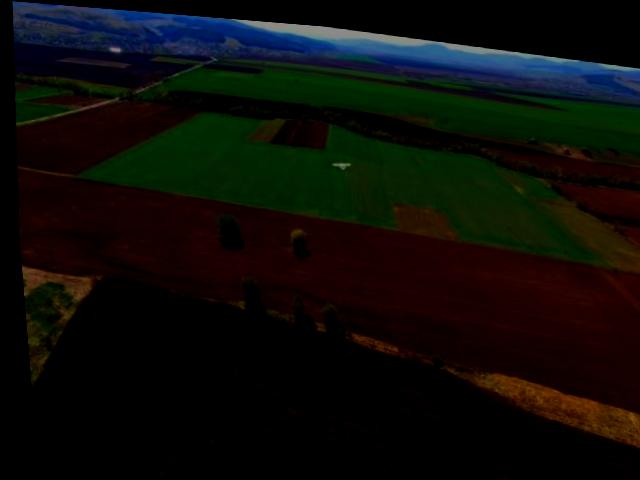uav: (324, 145, 354, 173)
